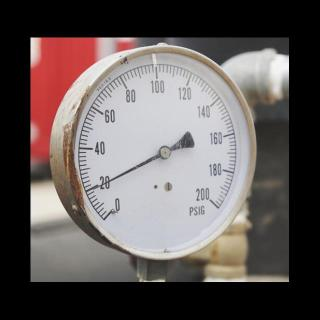gauge: (31, 39, 267, 281), (188, 185, 222, 215), (99, 195, 125, 225), (158, 144, 172, 160), (93, 182, 104, 192)
